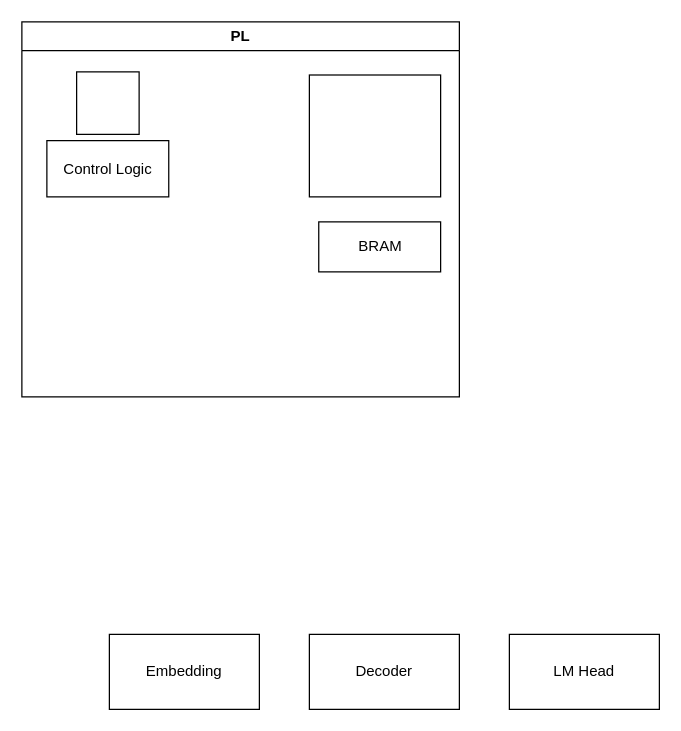
Some shapes in this 681 by 731 pixel diagram are drawn without their labels. Here are the shapes that lost their labels. From the top down, the box of each, then its label:
(75, 71, 139, 134): AXI-4 Lite
(308, 74, 441, 197): Systolic Array
